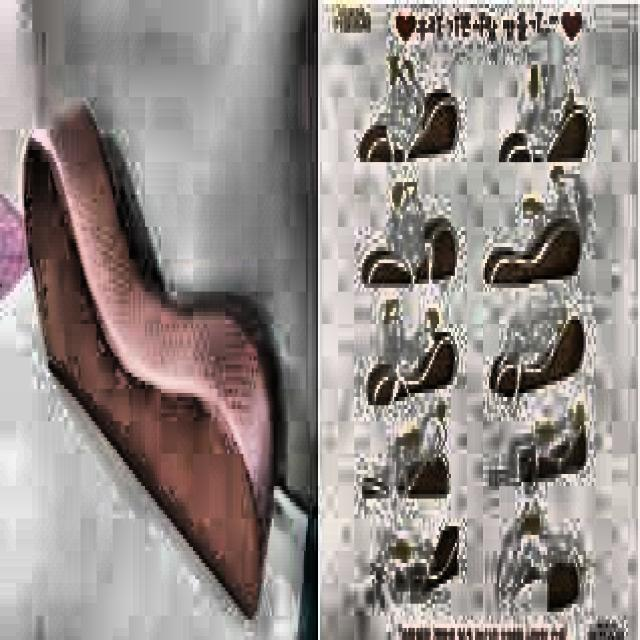sofa: (22, 109, 286, 612)
